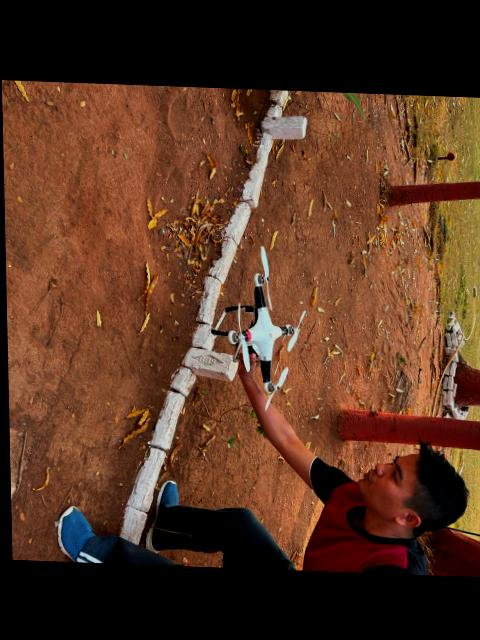drone: (179, 234, 320, 414)
